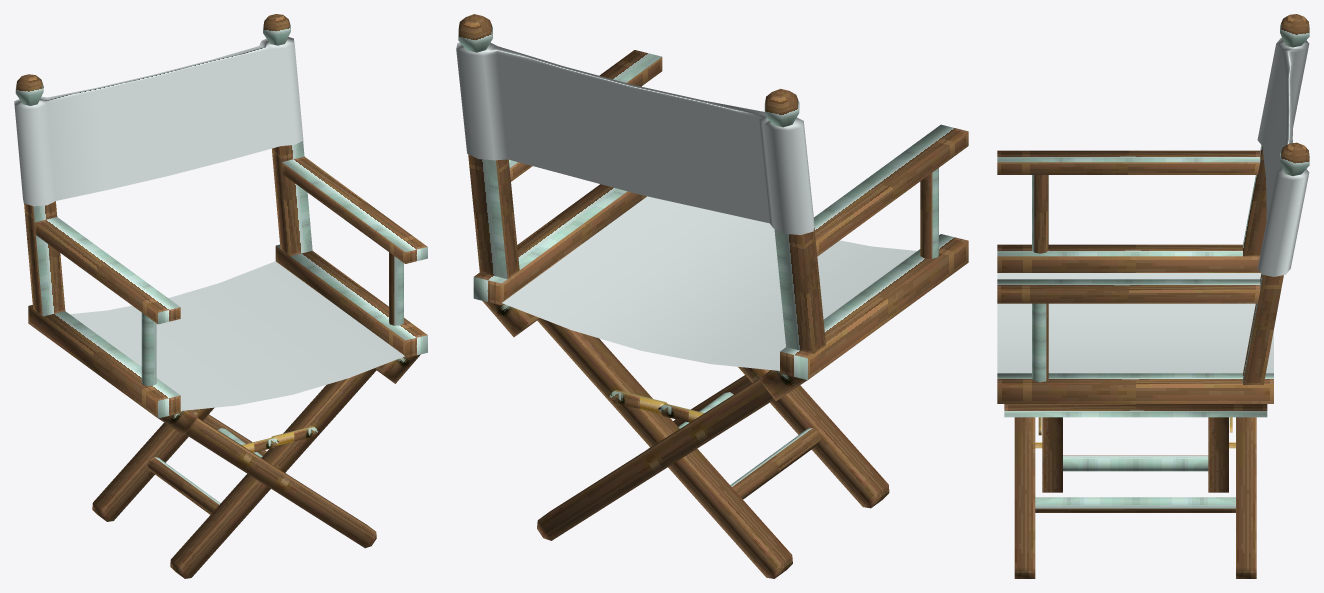
The model's file is rmk_sdo_chairS.dae.
3 renders of one model, left to right at view 1: azimuth 30°, elevation 25°; view 2: azimuth 150°, elevation 25°; view 3: azimuth 270°, elevation 25°, orthographic. The views are drawn at different scales.
Visible parts, largest first — view 1: rmk_sdo_chairS; view 2: rmk_sdo_chairS; view 3: rmk_sdo_chairS.
Part boxes in pixels (x1,y1,x2,y2): rmk_sdo_chairS: (14,14,427,578); rmk_sdo_chairS: (456,14,968,578); rmk_sdo_chairS: (997,14,1309,578).
Bounding box in the file's own units: 24.8 × 36.24 × 22.57.
Materials: 2 (2 with a texture image).
